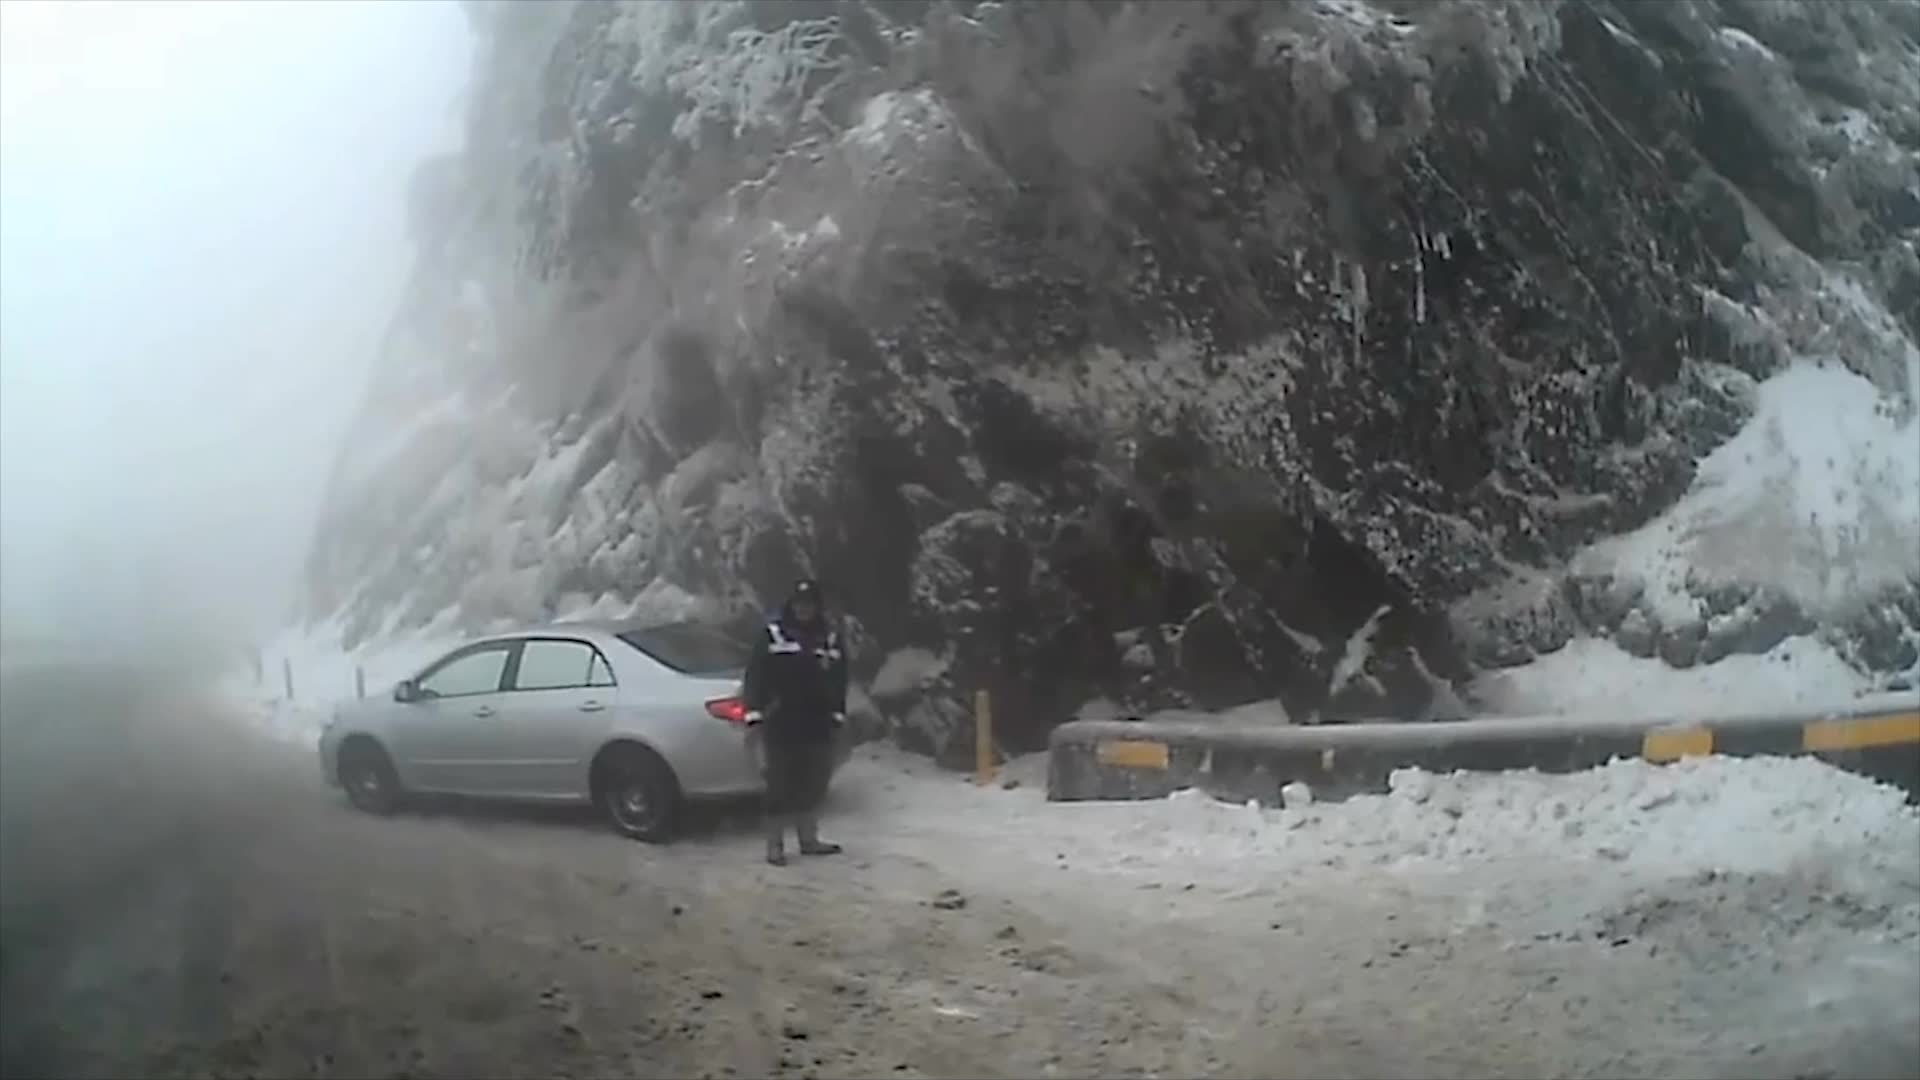pedestrian: (739, 582, 848, 871)
vehicle: (316, 614, 854, 845)
